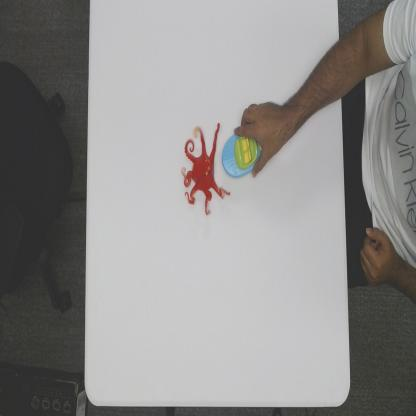Arm: (286, 39, 341, 140)
Boat: (221, 126, 265, 182)
Hand: (234, 100, 286, 176)
Octopus: (179, 119, 232, 216)
